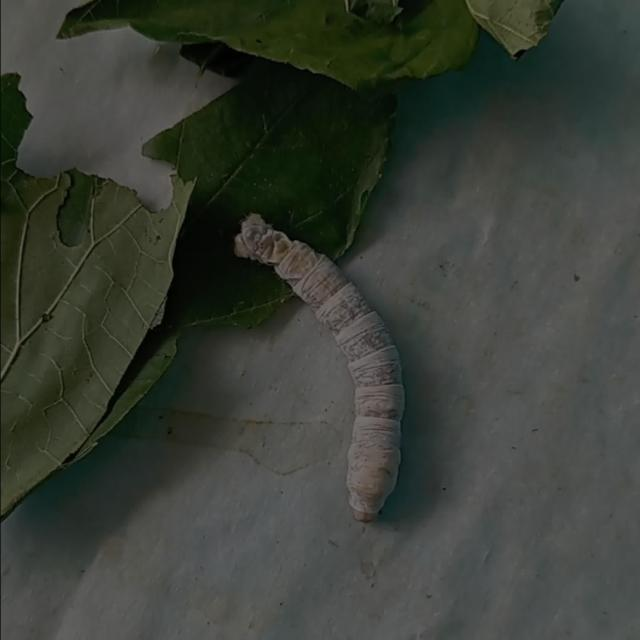Grasserie: (225, 210, 422, 528)
